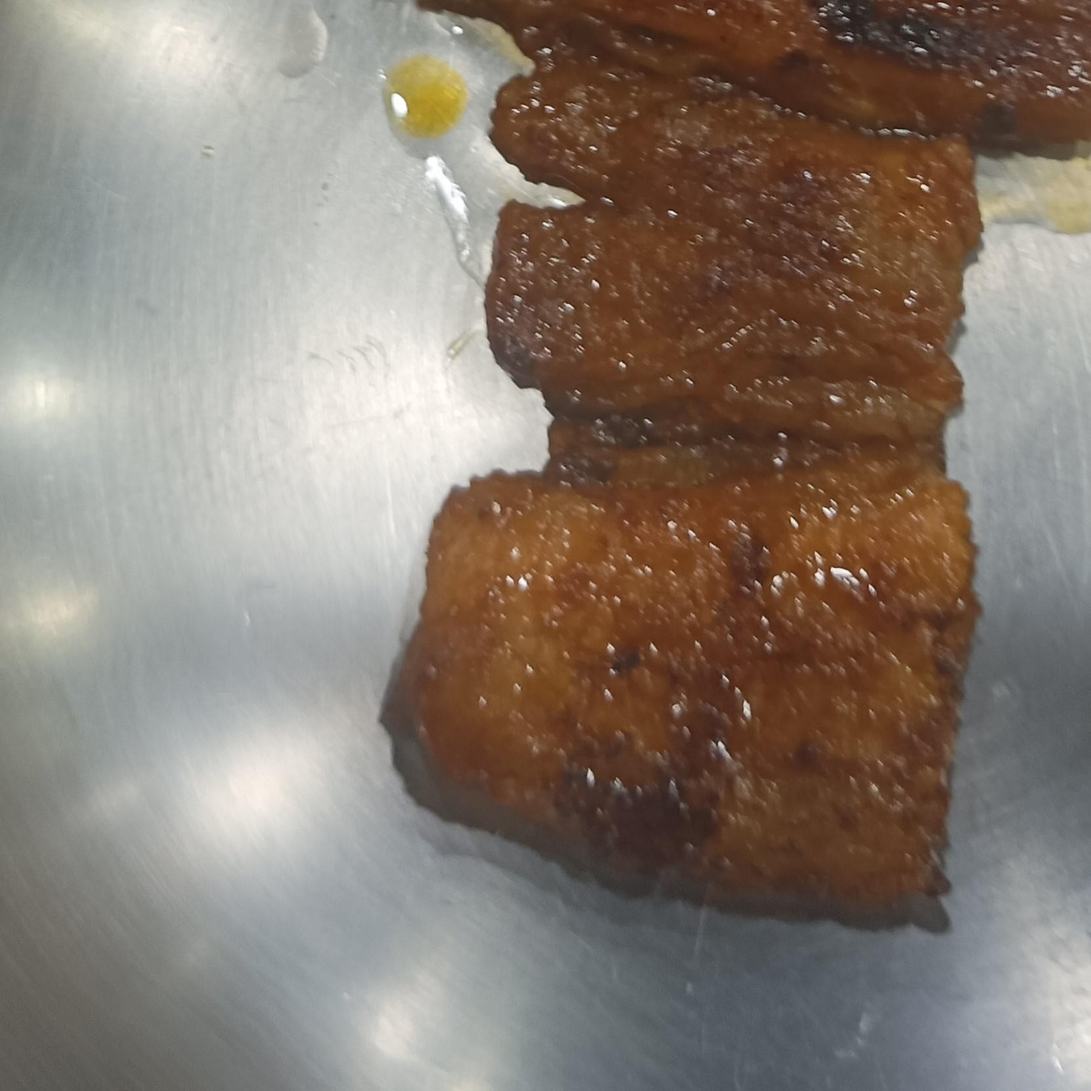Overcooked: (402, 457, 978, 910), (486, 64, 982, 445), (417, 0, 1090, 153)
